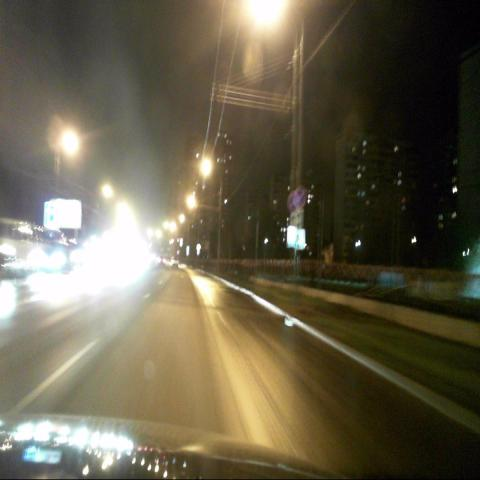3_27: (292, 187, 305, 209)
8_2_4: (295, 210, 303, 230)
